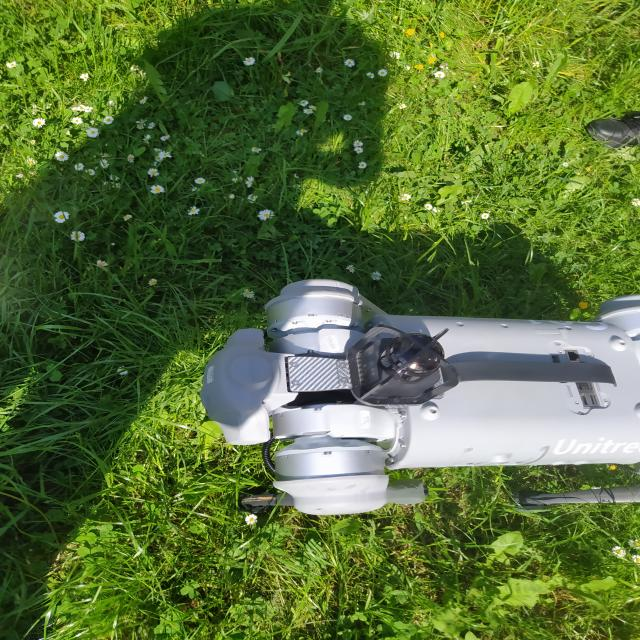unitree-go1-robot: (186, 267, 640, 537)
